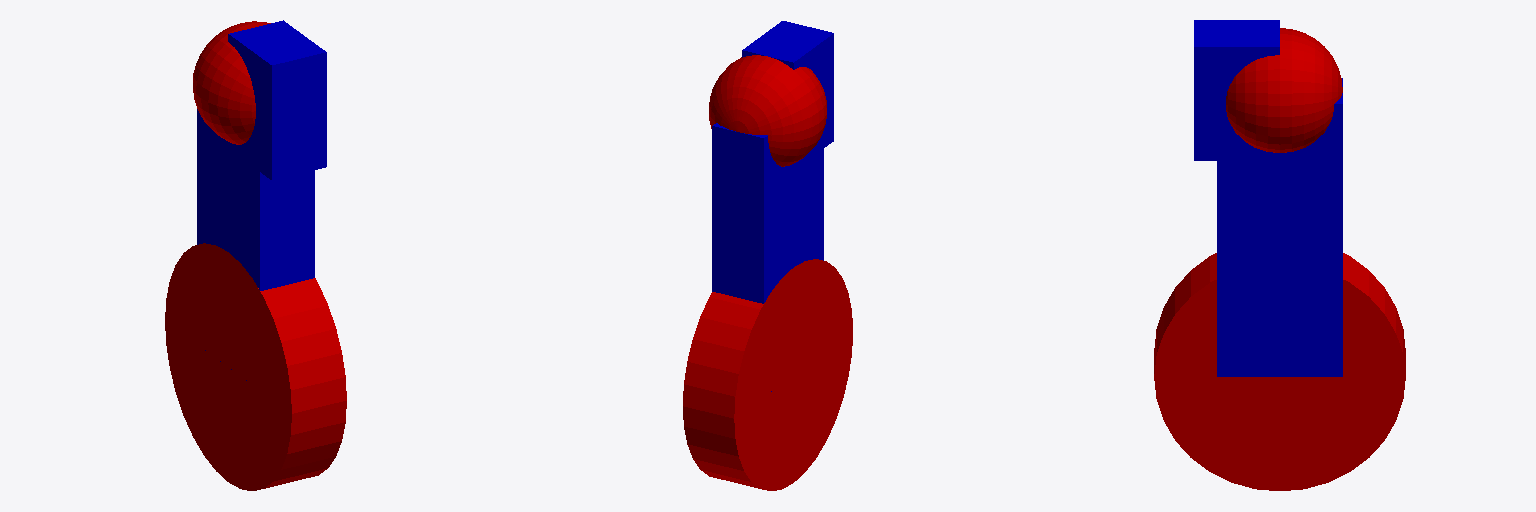
robot.urdf — TwoLinkStruct1760514409:
<?xml version="1.0"?>
<robot  name="TwoLinkStruct1760514409" >
 <material  name="blue" >
  <color  rgba="0 0 0.8 1.0" />
 </material>
 <material  name="red" >
  <color  rgba="0.8 0 0 1.0" />
 </material>
 <link  name="base_link" >
  <visual >
   <origin  rpy="0 1.5707 0"  xyz="0 0 0" />
   <material  name="red" />
   <geometry >
    <cylinder  length="0.05"  radius="0.1" />
   </geometry>
  </visual>
 </link>
 <joint  type="revolute"  name="joint1" >
  <parent  link="base_link" />
  <child  link="link1" />
  <origin  xyz="0 0 0"  rpy="0 0 0" />
  <axis  xyz="1 0 0" />
 </joint>
 <link  name="link1" >
  <inertial >
   <origin  rpy="0 0 0"  xyz="0 0 0.1198381079515875" />
   <mass  value="0.4567240140096262" />
   <inertia  ixy="0.0"  iyy="0.00019030167250401093"  izz="0.002281514894701843"  ixz="0.0"  ixx="0.002281514894701843"  iyz="0.0" />
  </inertial>
  <visual >
   <origin  rpy="0 0 0"  xyz="0 0 0.1198381079515875" />
   <material  name="blue" />
   <geometry >
    <box  size="0.05 0.1 0.239676215903175" />
   </geometry>
  </visual>
 </link>
 <joint  type="fixed"  name="joint-joint-1" >
  <parent  link="link1" />
  <child  link="joint-link-1" />
  <origin  xyz="0 0 0.239676215903175"  rpy="1.5707 0 0" />
  <axis  xyz="1 0 0" />
 </joint>
 <link  name="joint-link-1" >
  <inertial >
   <origin  rpy="0 0 0"  xyz="0 0 0" />
   <mass  value="1.0758162014850157" />
   <inertia  ixy="0"  iyy="0"  izz="0"  ixz="0"  ixx="0"  iyz="0" />
  </inertial>
  <visual >
   <origin  rpy="0 0 0"  xyz="0 0 0" />
   <material  name="red" />
   <geometry >
    <sphere  radius="0.05" />
   </geometry>
  </visual>
 </link>
 <joint  type="revolute"  name="joint2" >
  <parent  link="link1" />
  <child  link="link2" />
  <origin  xyz="0 0 0.239676215903175"  rpy="1.5707 0 0" />
  <axis  xyz="1 0 0" />
 </joint>
 <link  name="link2" >
  <inertial >
   <origin  rpy="0 0 0"  xyz="0 0 0.03410358512023401" />
   <mass  value="0.18229677863072077" />
   <inertia  ixy="0.0"  iyy="0.00019030167250401093"  izz="0.0002722158122510783"  ixz="0.0"  ixx="0.0002722158122510783"  iyz="0.0" />
  </inertial>
  <visual >
   <origin  rpy="0 0 0"  xyz="0 0 0.03410358512023401" />
   <material  name="blue" />
   <geometry >
    <box  size="0.05 0.1 0.06820717024046802" />
   </geometry>
  </visual>
 </link>
 <joint  type="fixed"  name="eef_joint" >
  <parent  link="link2" />
  <child  link="eef" />
  <origin  xyz="0 0 0.06820717024046802"  rpy="0 0 0" />
 </joint>
 <link  name="eef" >
  <inertial >
   <origin  rpy="0 0 0"  xyz="0 0 0" />
   <mass  value="1" />
   <inertia  ixy="0"  iyy="0"  izz="0"  ixz="0"  ixx="0"  iyz="0" />
  </inertial>
 </link>
 <transmission  name="motor1" >
  <type  xmltext="SimpleTransmission" >
   SimpleTransmission
  </type>
  <actuator  name="motor1" >
   <mechanicalreduction  xmltext="1" >
    1
   </mechanicalreduction>
  </actuator>
  <joint  name="joint1" />
 </transmission>
 <transmission  name="motor2" >
  <type  xmltext="SimpleTransmission" >
   SimpleTransmission
  </type>
  <actuator  name="motor2" >
   <mechanicalreduction  xmltext="1" >
    1
   </mechanicalreduction>
  </actuator>
  <joint  name="joint2" />
 </transmission>
</robot>

<!-- {'carti': array([-0.1 ,  0.14,  0.85]), 'cartd': array([-0.1 ,  0.32,  1.29]), 'tau_mu': 0.43325929860766527, 'b0': 0.5939355035395405, 'Km': 3.578131287583022, 'k_velocity': 12.711374129383007, 'tau_max_m': 4.789230060322608, 'omega_max_m': 7510.472971342912, 'gear_ratio': 2.0139805541697378, 'Kp': 30.93663732575549, 'Kd': 11.341029401192145, 'm_m': 1.0758162014850157, 'l1': 0.239676215903175, 'l2': 0.06820717024046802, 'k1': 8816.297704482808, 'k2': 102725476.54568633, 'k3': 251192542.59767327}-->

--- Render facts (derived) ---
Views: 3 orthographic renders of the robot side by side, from view 1: azimuth 30°, elevation 25°; view 2: azimuth 150°, elevation 25°; view 3: azimuth 270°, elevation 25°.
Model TwoLinkStruct1760514409 with 5 links and 4 joints (2 revolute, 2 fixed), rooted at base_link, posed all joints at 0.
Links seen in each view (by area): view 1: base_link, link1, link2, joint-link-1; view 2: base_link, link1, joint-link-1, link2; view 3: base_link, link1, joint-link-1, link2.
Boxes of the visible links, <box> form: base_link: <box>165,243,346,490</box>; link1: <box>197,109,314,380</box>; link2: <box>228,20,326,180</box>; joint-link-1: <box>193,21,270,144</box>; base_link: <box>683,259,852,490</box>; link1: <box>712,123,823,391</box>; joint-link-1: <box>709,55,826,166</box>; link2: <box>742,21,833,169</box>; base_link: <box>1154,253,1405,490</box>; link1: <box>1217,78,1342,376</box>; joint-link-1: <box>1226,28,1342,152</box>; link2: <box>1194,20,1279,160</box>.
Bounding box of the posed robot: 0.1 × 0.2 × 0.3897 m (x, y, z).
Geometry: primitives only (box / cylinder / sphere), no mesh files.